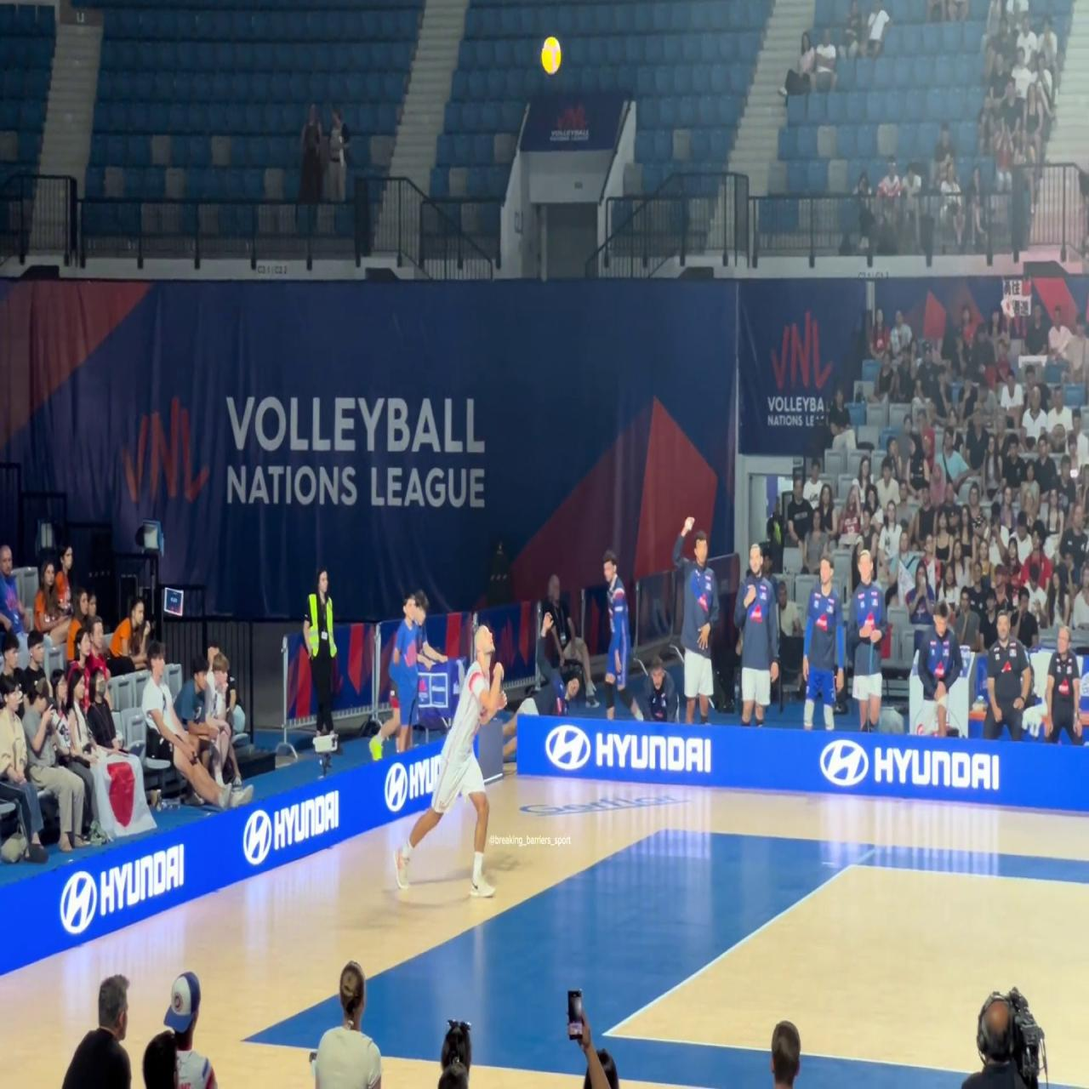ball: (541, 37, 562, 73)
